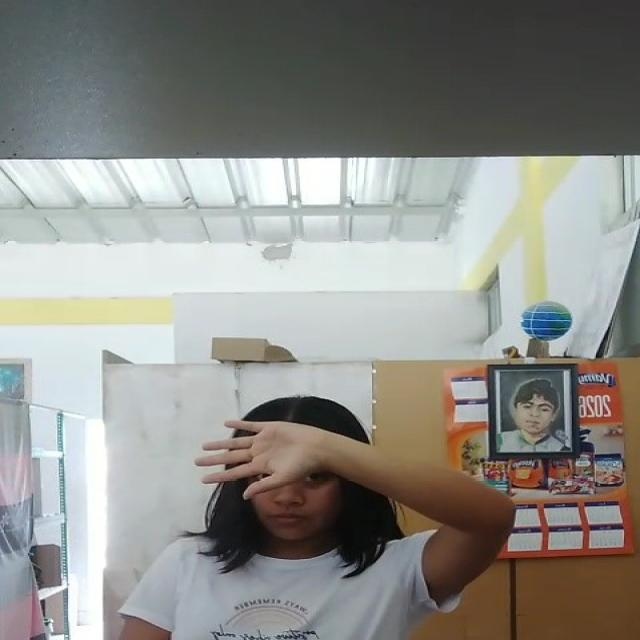7_mano_rostro: (240, 418, 356, 499)
